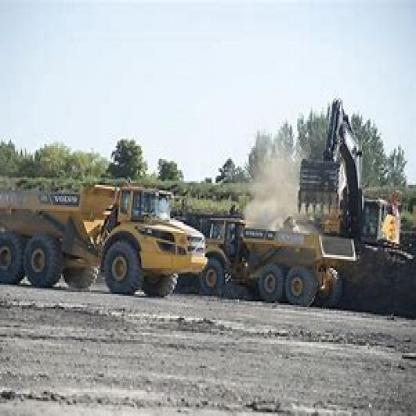dump_truck: (3, 174, 210, 294), (207, 207, 357, 316)
